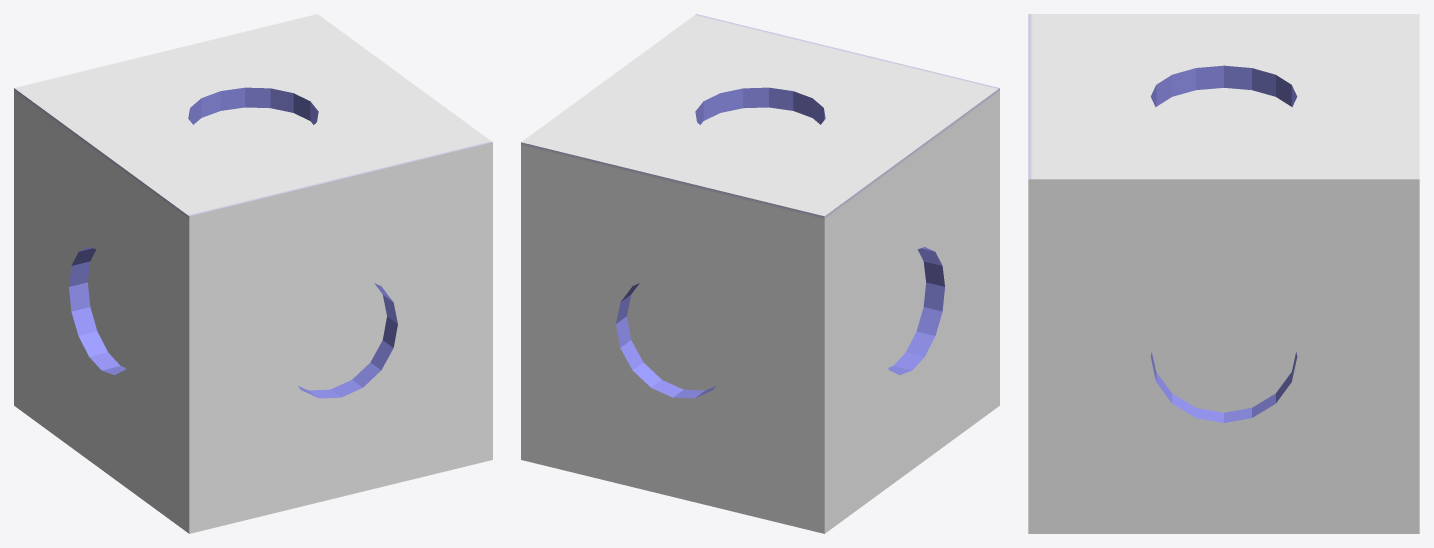
Rendered from circle_gcube.glb.
The picture shows the model from 3 angles, left to right: view 1: azimuth 30°, elevation 25°; view 2: azimuth 150°, elevation 25°; view 3: azimuth 270°, elevation 25°; orthographic projection. The views are drawn at different scales.
Visible parts, largest first — view 1: Circle_GCube; view 2: Circle_GCube; view 3: Circle_GCube.
Part boxes in pixels (bbox=[...]): Circle_GCube: bbox=[14, 14, 492, 533]; Circle_GCube: bbox=[521, 14, 999, 533]; Circle_GCube: bbox=[1028, 14, 1419, 533].
Bounding box in the file's own units: 0.8 × 0.8 × 0.8.
Materials: 1 (1 with a texture image).
